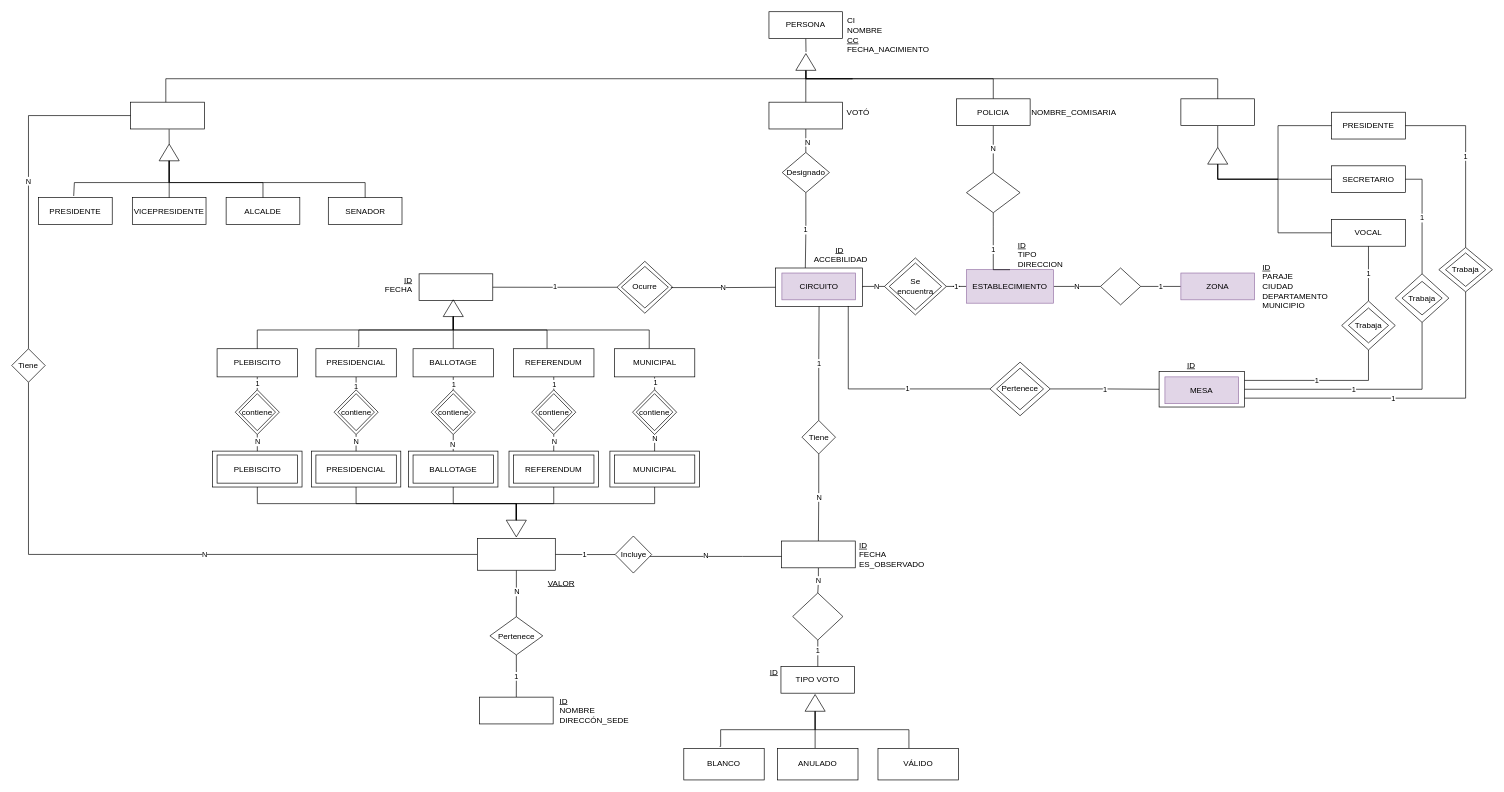
Image size: 1504x792. Some labels were removed from this diagram. Here are the shapes that lost their labels. From the top down, the centre of each, then its label:
the point at 167,115: CANDIDATO
the point at 805,115: VOTANTE
the point at 1217,112: FUNCIONARIO
the point at 993,192: Patrulla
the point at 455,287: ELECCIÓN
the point at 1120,286: Se sitúa
the point at 516,554: LISTA
the point at 818,554: VOTO
the point at 817,616: Cuenta con
the point at 516,710: PARTIDO
